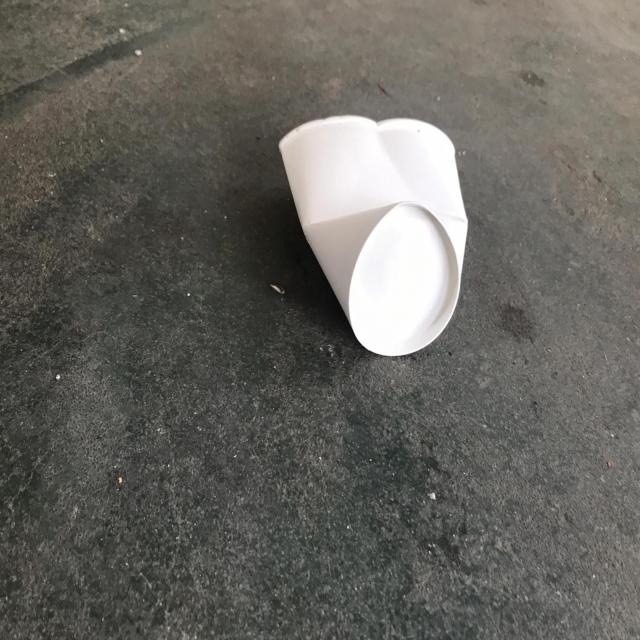paperpack: (280, 116, 468, 354)
